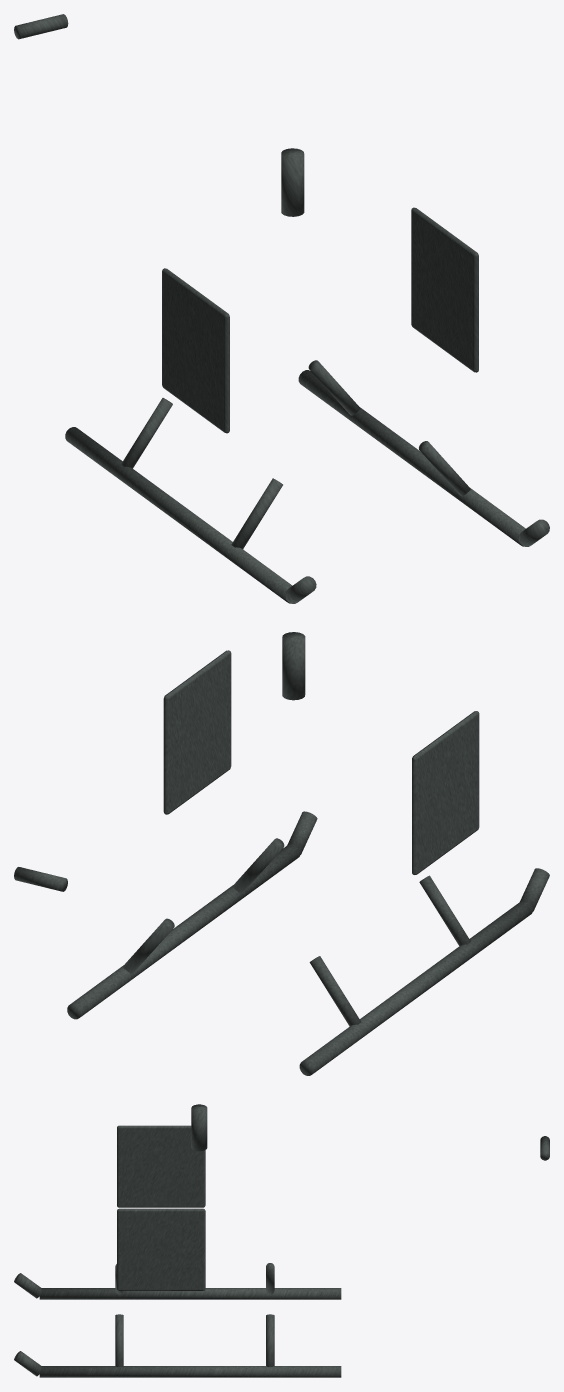
The picture shows the model from 3 angles, top to bottom: view 1: azimuth 30°, elevation 25°; view 2: azimuth 150°, elevation 25°; view 3: azimuth 270°, elevation 25°; orthographic projection. The views are drawn at different scales.
Bounding box in the file's own units: 2.27 × 2.86 × 6.05.
1 material, 1 textured.
